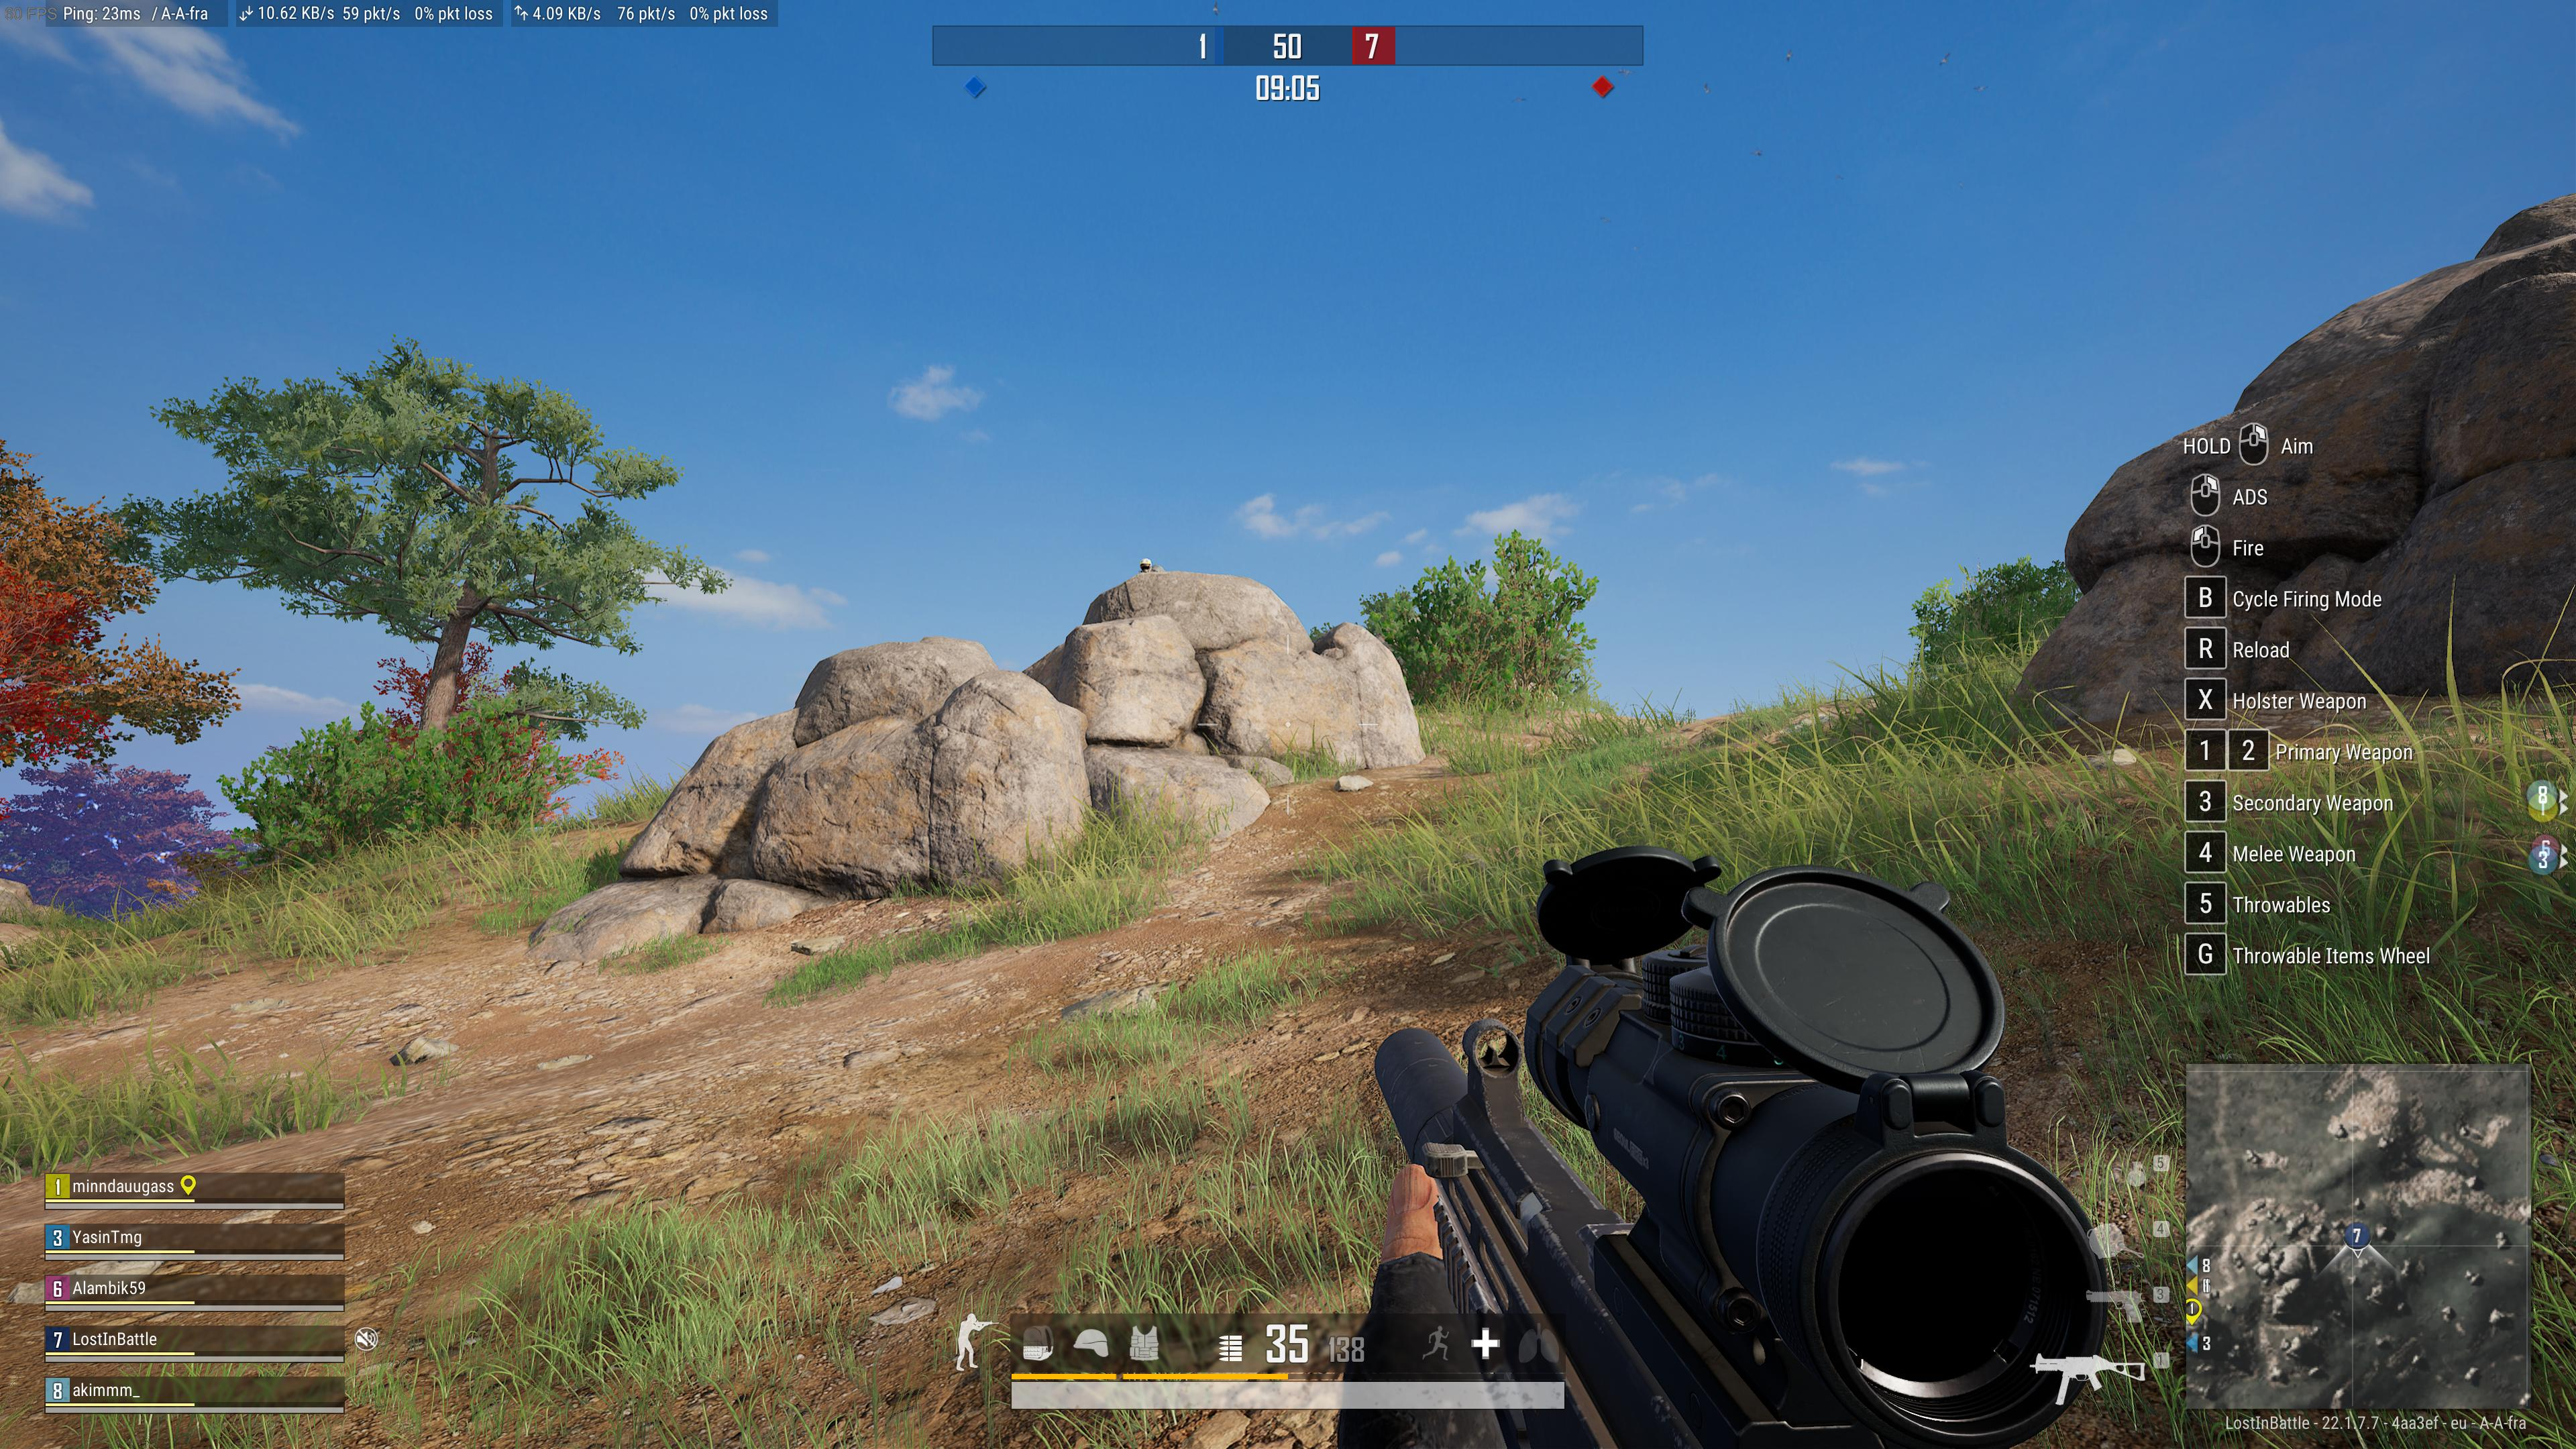enemy_head: (1139, 557, 1152, 571)
